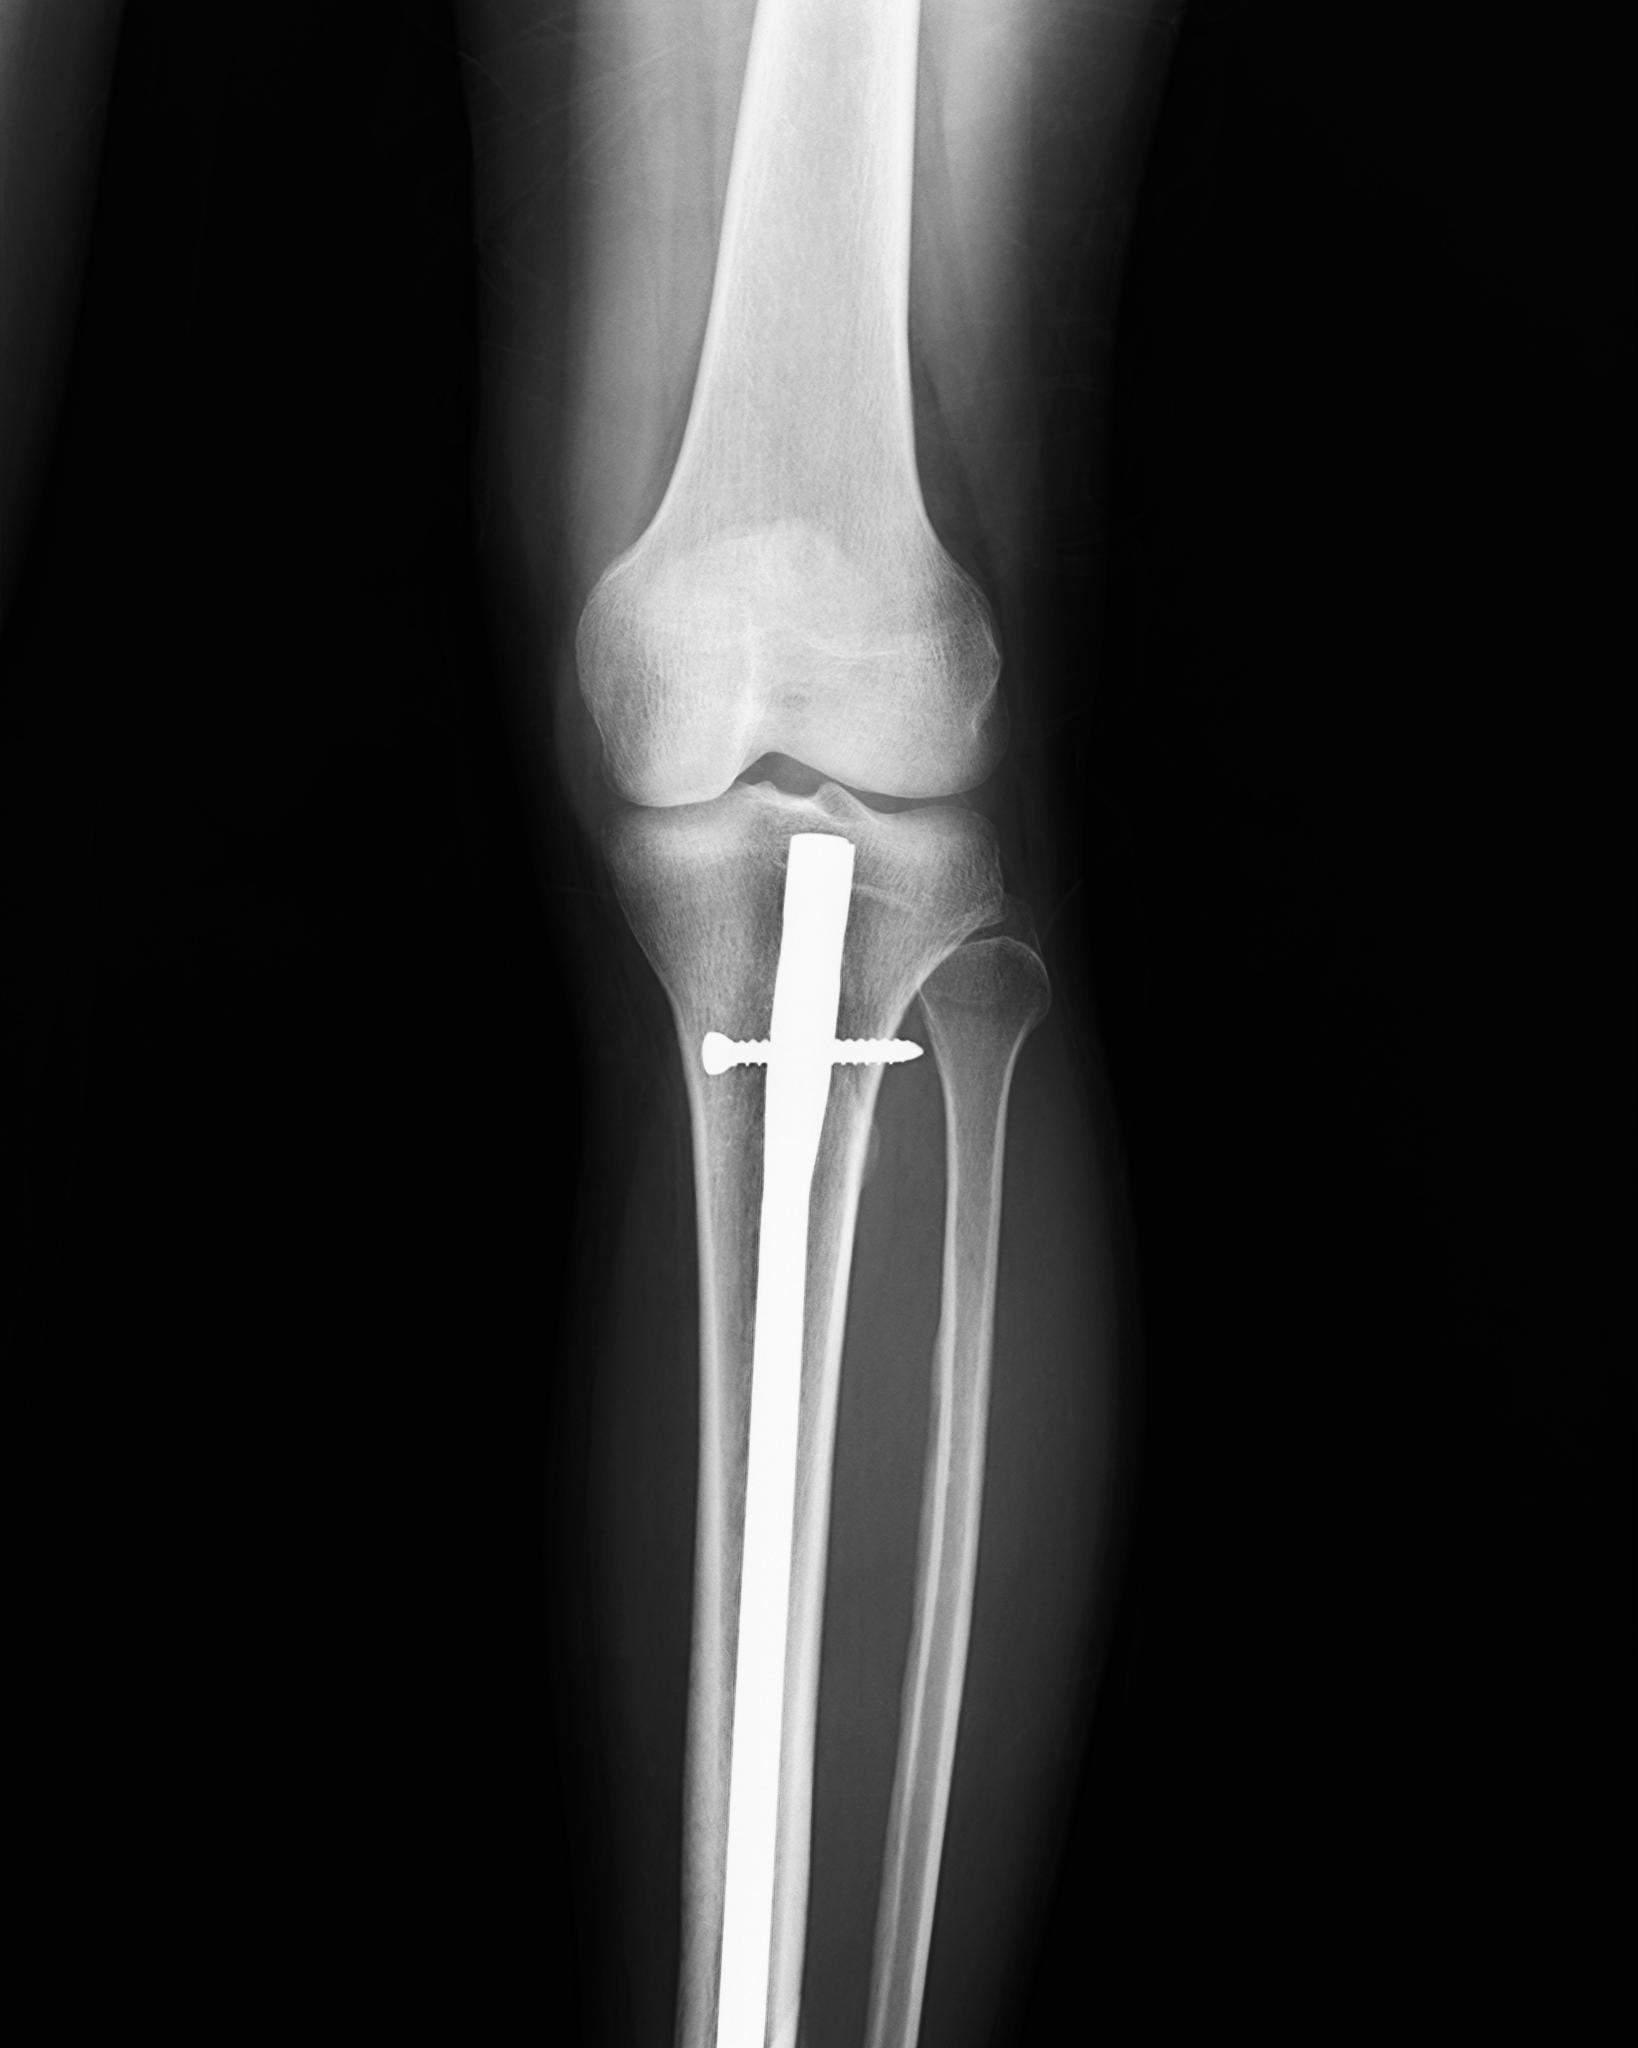fractured: (767, 868, 1020, 961)
